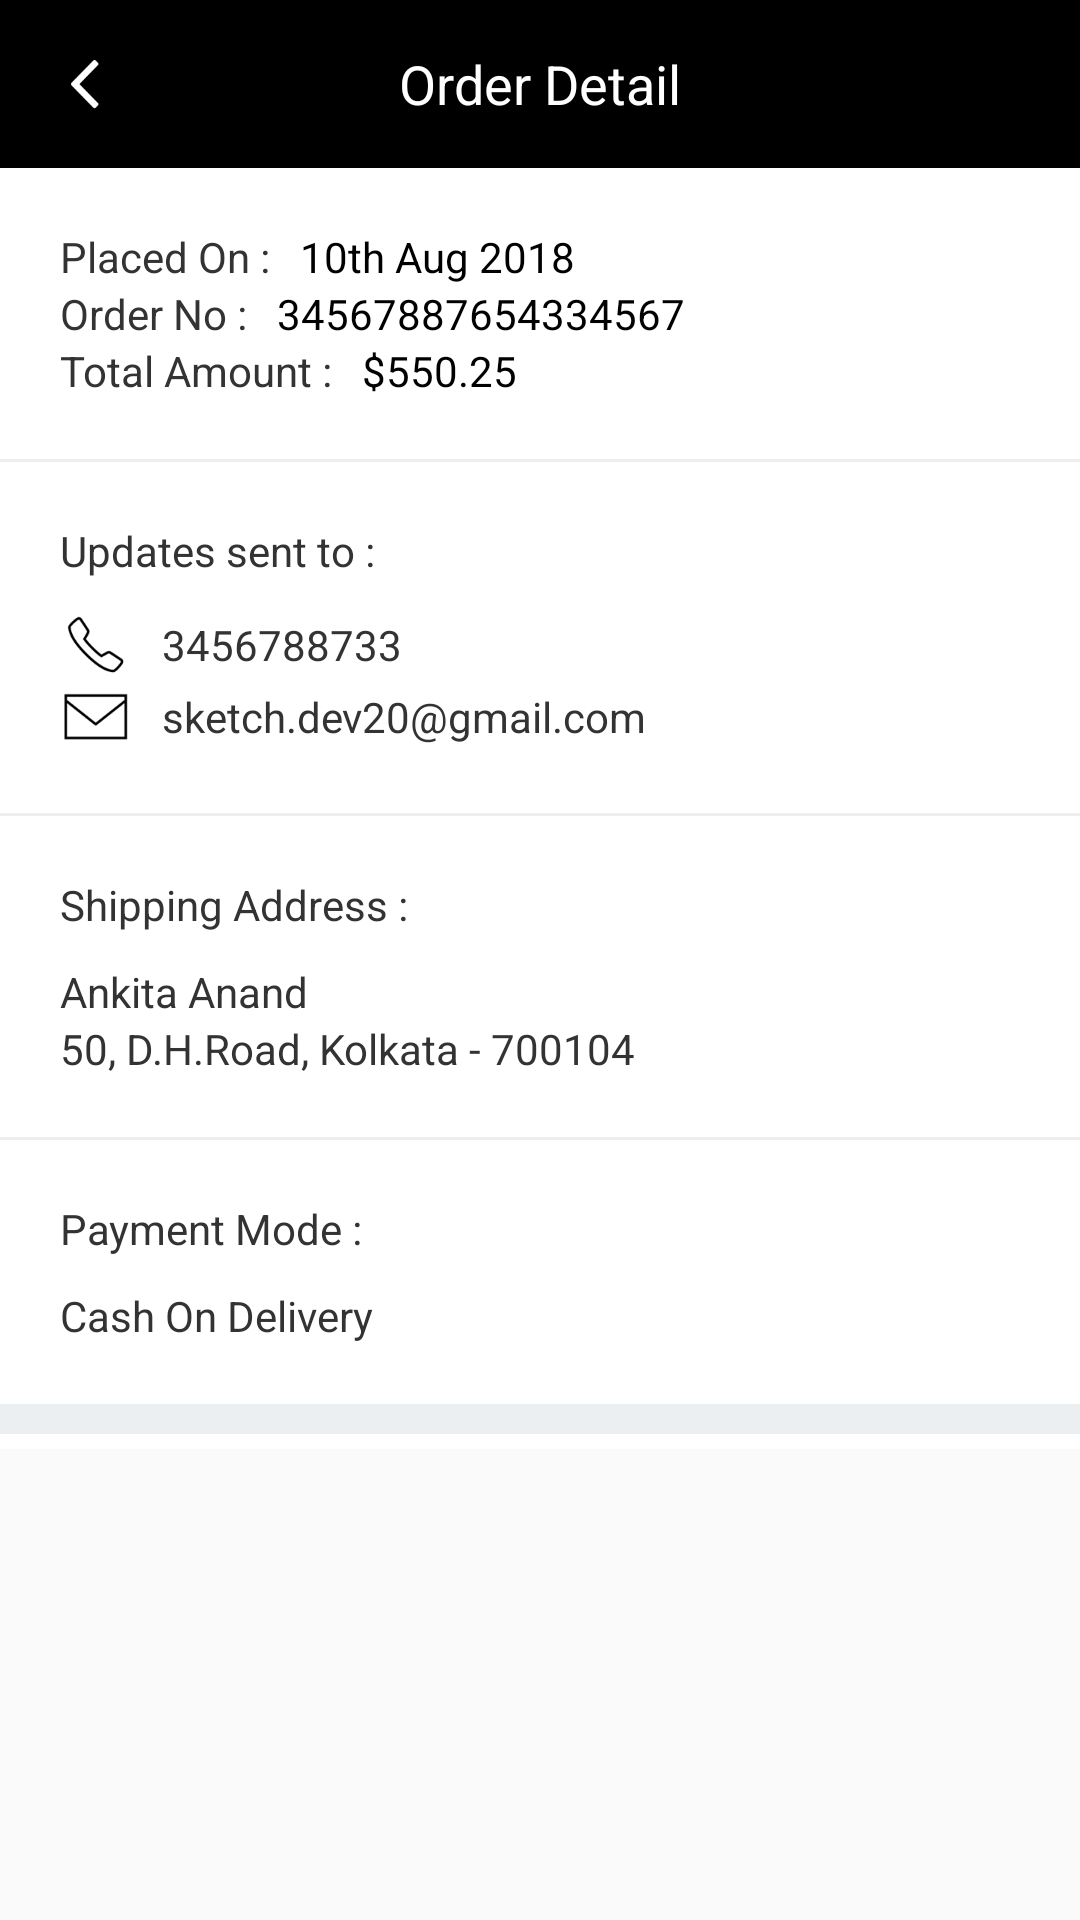

Where icons sit on this 1080 × 1920 app screen, as (x1, y1, x2, y2):
back: (71, 60, 99, 109)
phone: (68, 617, 124, 673)
